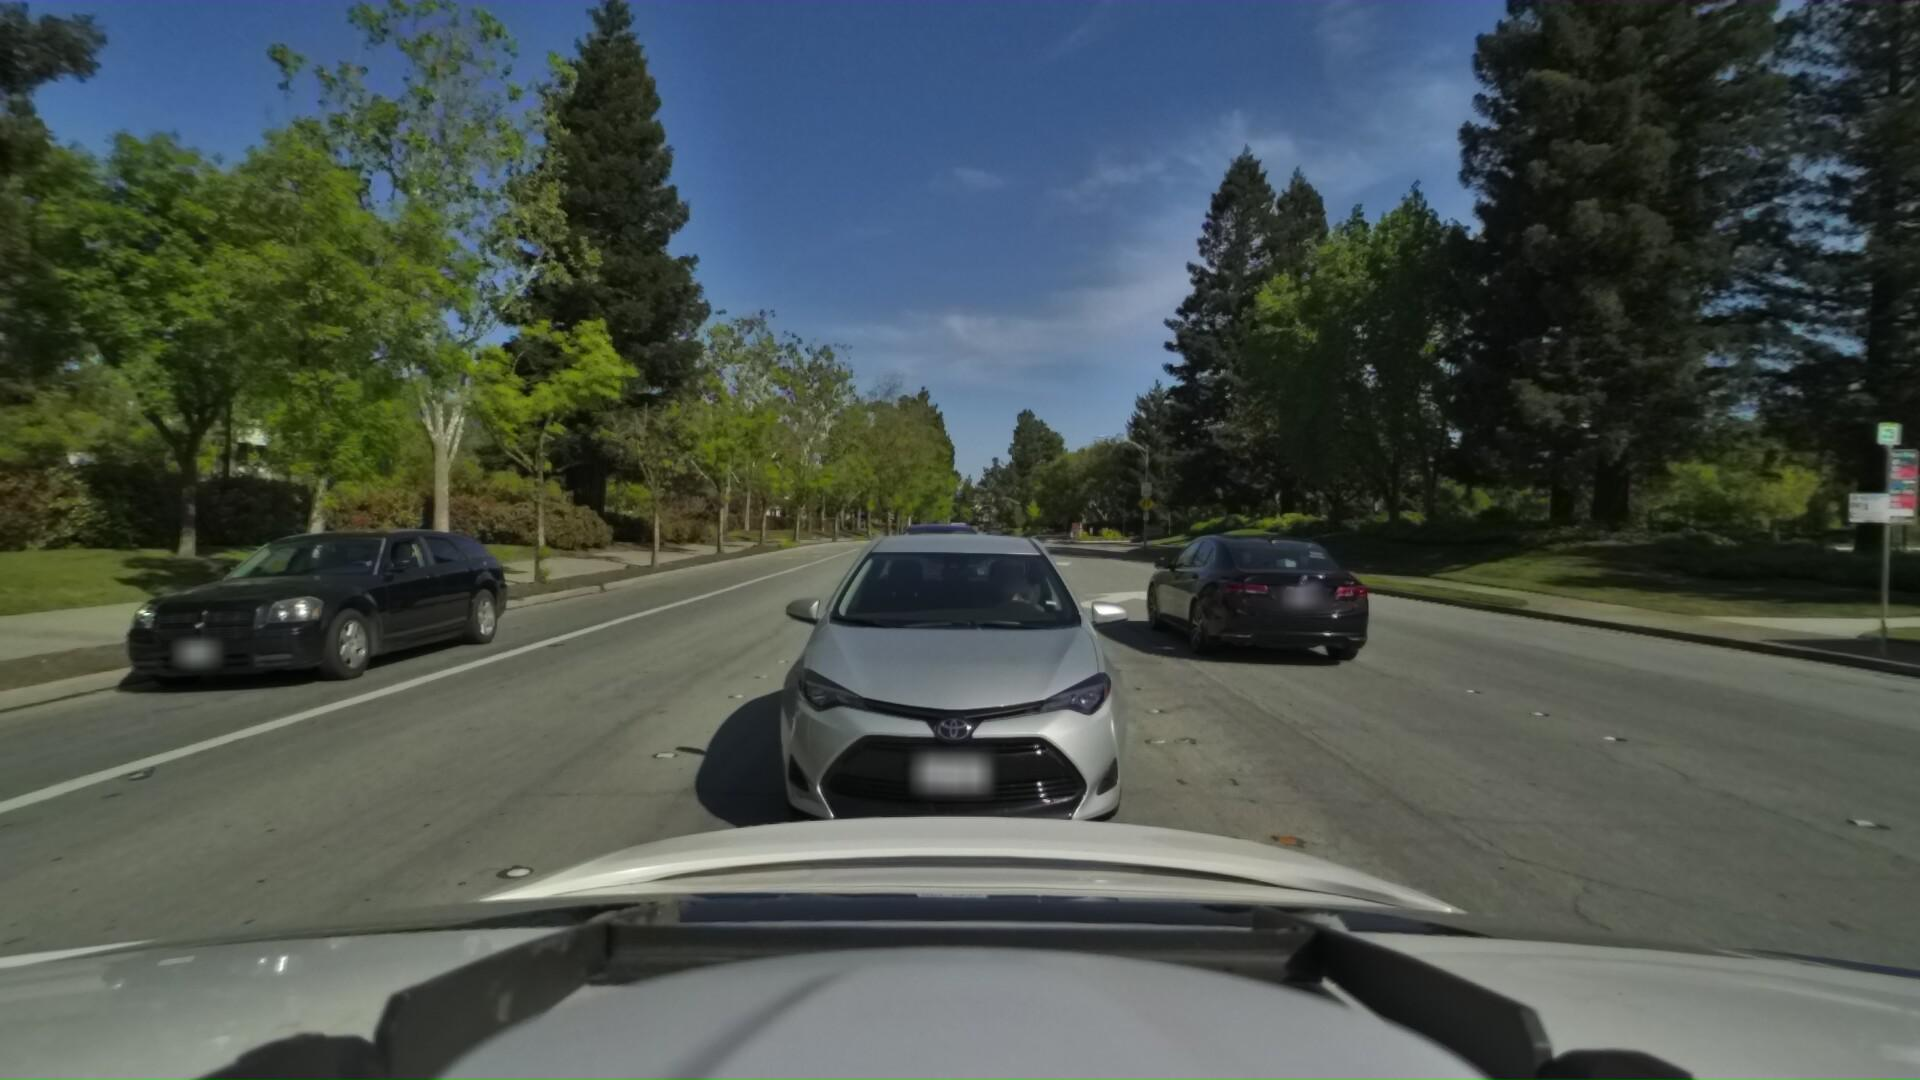car: (732, 506, 1156, 882), (62, 509, 506, 705), (1139, 520, 1410, 673), (864, 513, 986, 615), (943, 516, 964, 535)
